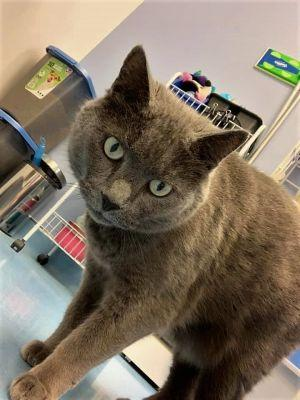rblue: (56, 35, 257, 251)
